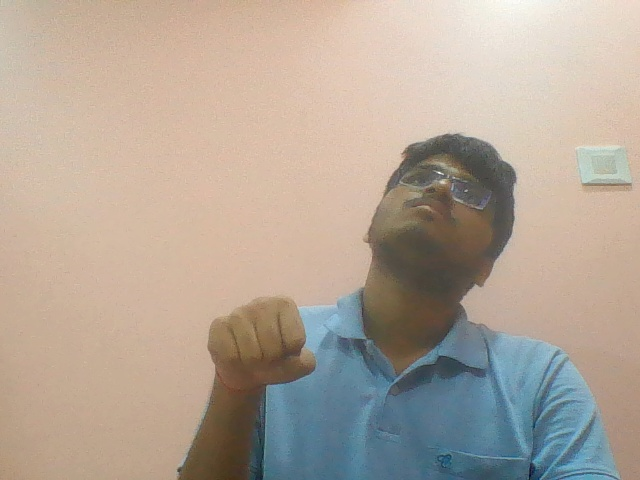yes: (188, 291, 356, 415)
